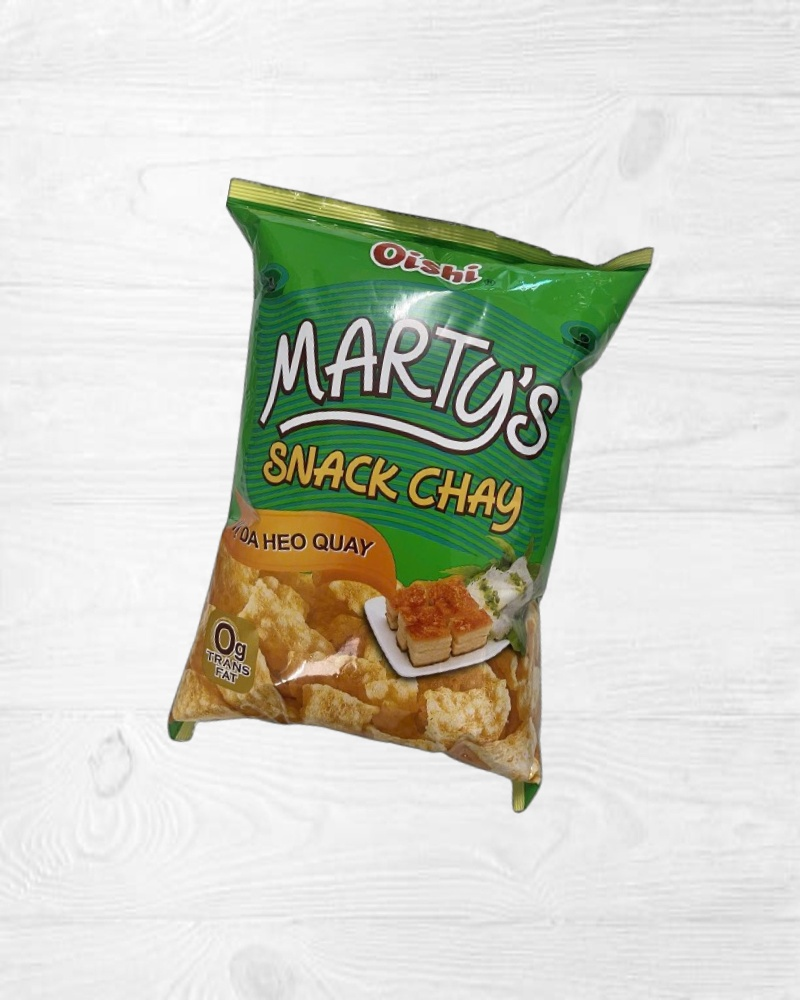Snack chay: (132, 174, 655, 820)
